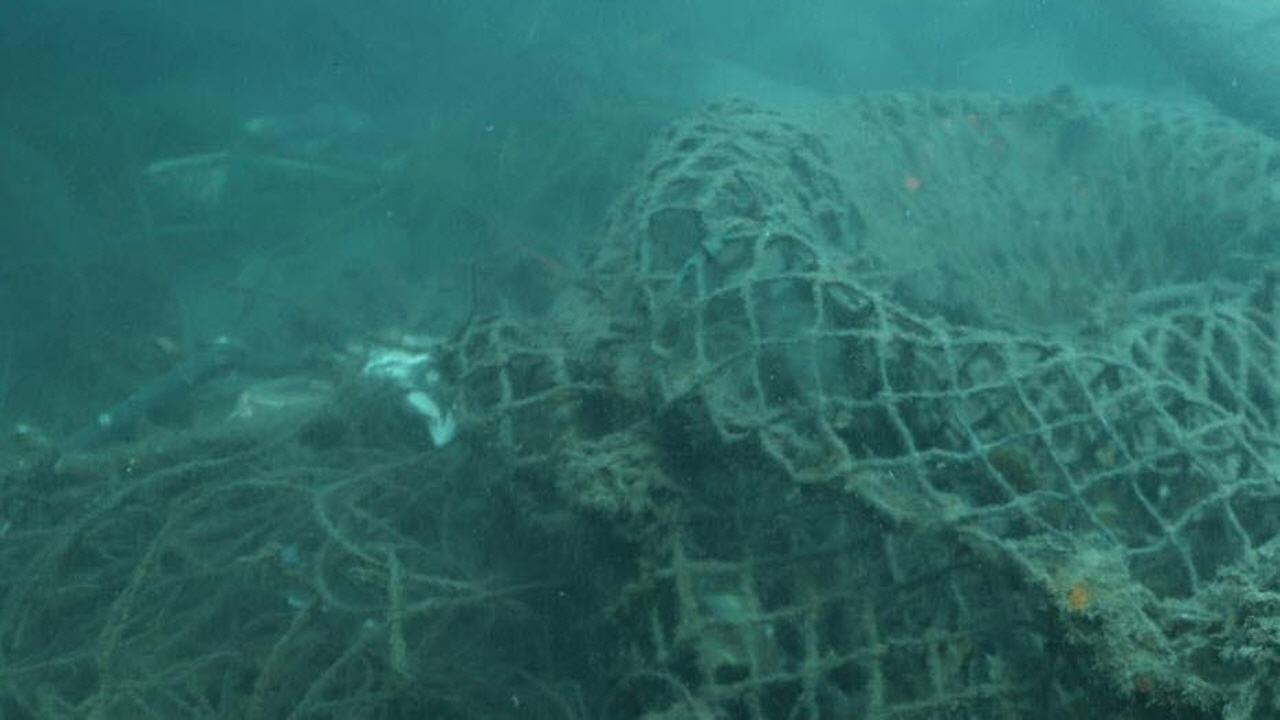fish net: (454, 81, 1280, 720)
